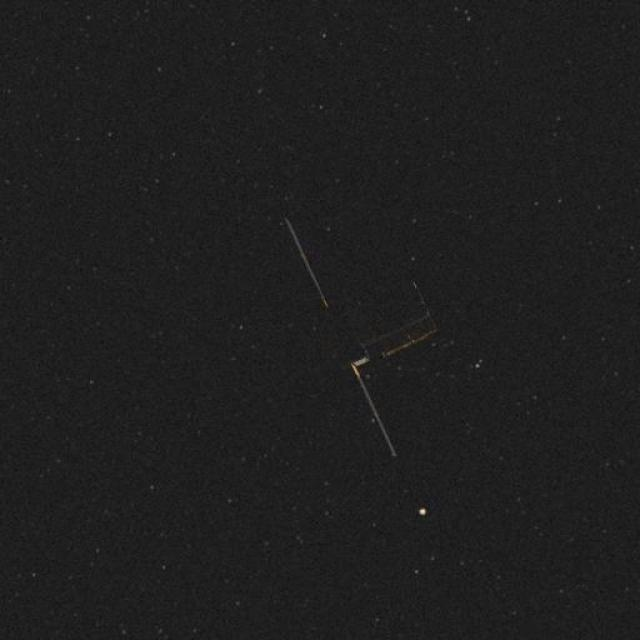soho: (276, 228, 455, 486)
